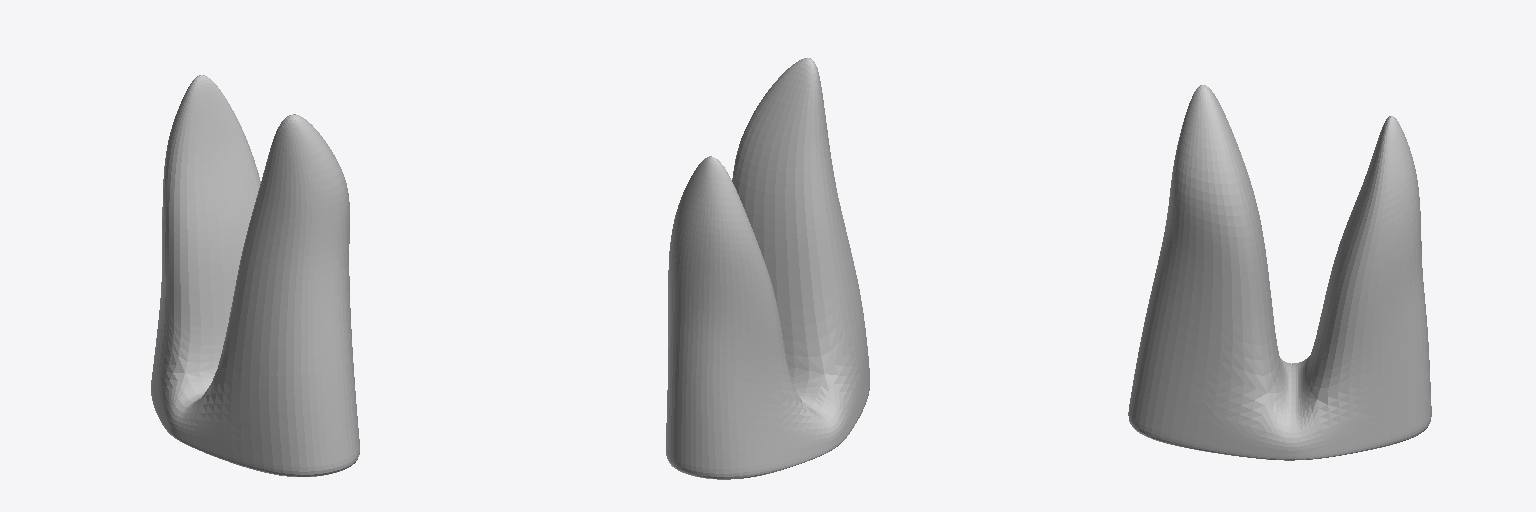
The model's file is corte trans 2.obj.
3 views of the same model, side by side, from view 1: azimuth 30°, elevation 25°; view 2: azimuth 150°, elevation 25°; view 3: azimuth 270°, elevation 25° (orthographic).
Parts seen in each view (by area): view 1: Cylinder; view 2: Cylinder; view 3: Cylinder.
Part boxes in pixels (bbox=[...]): Cylinder: bbox=[151, 75, 359, 476]; Cylinder: bbox=[666, 58, 869, 479]; Cylinder: bbox=[1128, 85, 1431, 460].
Size of the model in its own units: 1.02 by 2.16 by 1.75.